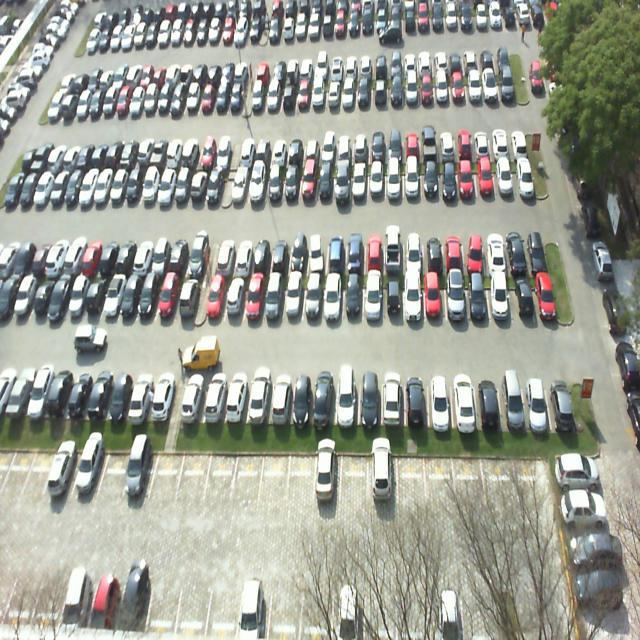space-empty: (94, 445, 132, 502), (148, 444, 182, 500), (231, 451, 264, 505), (175, 445, 209, 495), (204, 448, 238, 498), (259, 448, 291, 500), (21, 446, 55, 494), (288, 449, 314, 504)
space-occupied: (123, 442, 157, 502), (43, 445, 79, 499), (71, 446, 106, 501), (545, 370, 576, 426), (312, 451, 342, 507), (223, 370, 254, 424), (499, 373, 527, 431), (64, 367, 93, 421), (476, 372, 502, 429), (523, 371, 549, 428), (222, 272, 249, 326), (117, 271, 145, 323), (83, 371, 112, 421), (136, 267, 162, 321), (428, 375, 454, 429), (452, 374, 479, 426), (106, 371, 134, 421), (268, 373, 294, 425), (312, 372, 336, 428), (154, 274, 180, 324), (127, 370, 153, 420), (203, 370, 229, 420), (246, 372, 272, 422), (262, 270, 286, 324), (530, 270, 557, 318), (148, 374, 175, 422), (359, 371, 382, 426), (174, 272, 198, 324), (405, 374, 429, 426), (101, 270, 125, 320), (241, 275, 265, 325), (335, 373, 359, 423), (290, 372, 313, 424), (382, 371, 405, 423), (486, 273, 511, 320), (483, 227, 507, 275), (181, 373, 206, 419), (443, 226, 466, 273), (205, 273, 225, 327), (130, 236, 156, 276), (113, 238, 140, 276), (505, 227, 527, 273), (525, 229, 549, 271), (303, 276, 324, 324), (167, 238, 193, 276), (467, 275, 488, 322), (148, 237, 172, 278), (509, 276, 531, 320), (188, 164, 211, 206), (322, 277, 343, 323), (444, 277, 467, 319), (282, 276, 302, 324), (425, 229, 445, 276), (188, 239, 212, 278), (155, 165, 177, 207), (172, 165, 194, 207), (139, 165, 162, 205), (511, 156, 534, 196), (404, 226, 424, 272), (363, 276, 383, 322), (404, 274, 424, 320), (426, 276, 446, 322), (382, 231, 404, 272), (204, 166, 226, 206), (287, 234, 309, 274), (464, 228, 484, 272), (231, 164, 252, 205), (229, 238, 251, 277), (251, 235, 273, 273), (345, 231, 364, 275), (384, 276, 402, 322), (213, 239, 235, 275), (268, 236, 290, 272), (345, 275, 362, 321), (307, 234, 327, 273), (324, 235, 344, 273), (364, 235, 383, 273), (458, 162, 478, 198), (478, 158, 496, 198), (299, 166, 317, 205), (283, 164, 300, 205), (250, 166, 268, 204), (368, 162, 386, 200), (494, 160, 514, 194), (267, 166, 283, 207), (333, 165, 350, 201), (403, 163, 421, 197), (422, 163, 440, 197), (388, 162, 404, 200), (440, 162, 458, 195), (316, 166, 332, 200), (351, 164, 367, 198)
